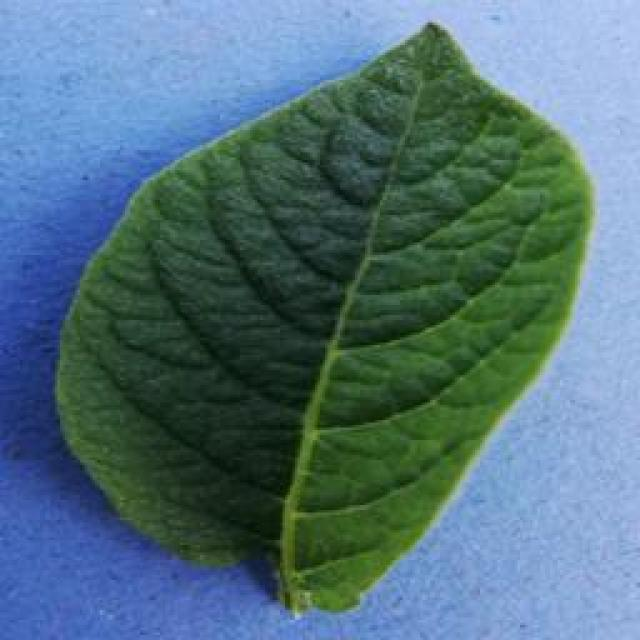Potato_Healthy: (54, 20, 590, 615)
